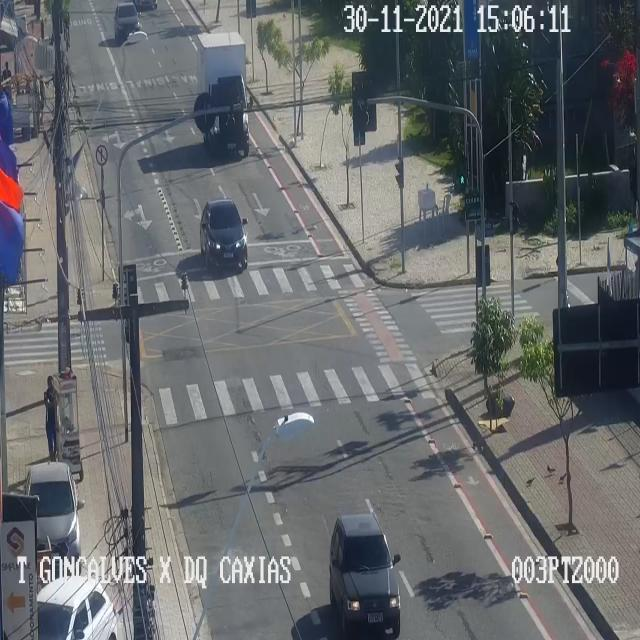Car: (329, 513, 399, 634), (24, 462, 80, 572), (37, 575, 117, 639), (199, 198, 247, 268), (114, 2, 140, 40)
Truck: (196, 31, 248, 155)
